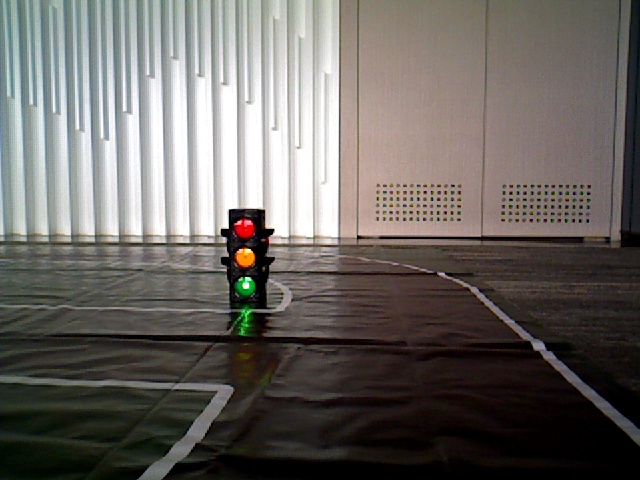green: (231, 215, 261, 297)
